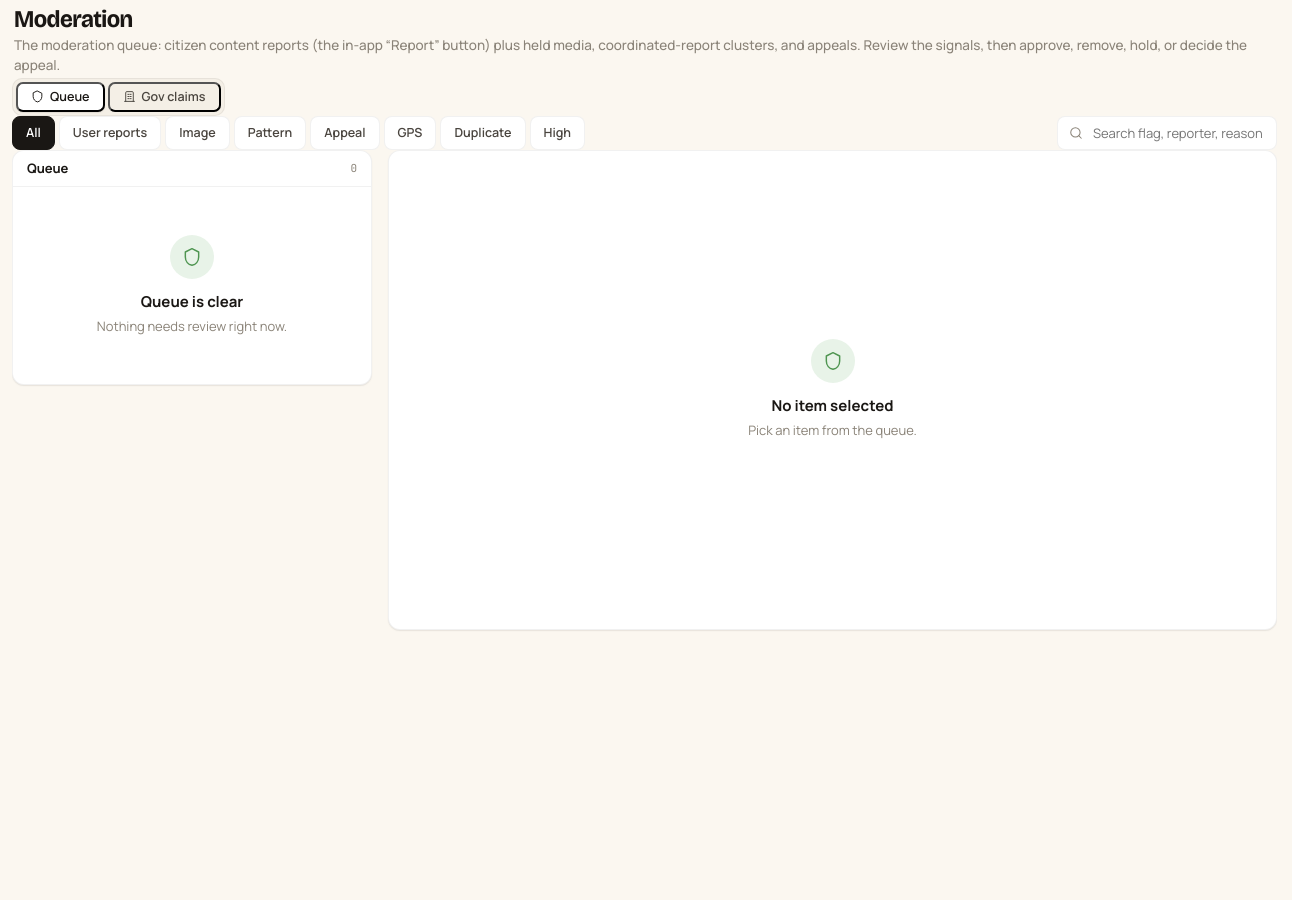
Test: ModerationPage gov claims › opens the clicked claim, which shows a decided claim as locked
Click the radio button labelled "Gov claims". click: point(164, 96)
box: [108, 82, 220, 112]
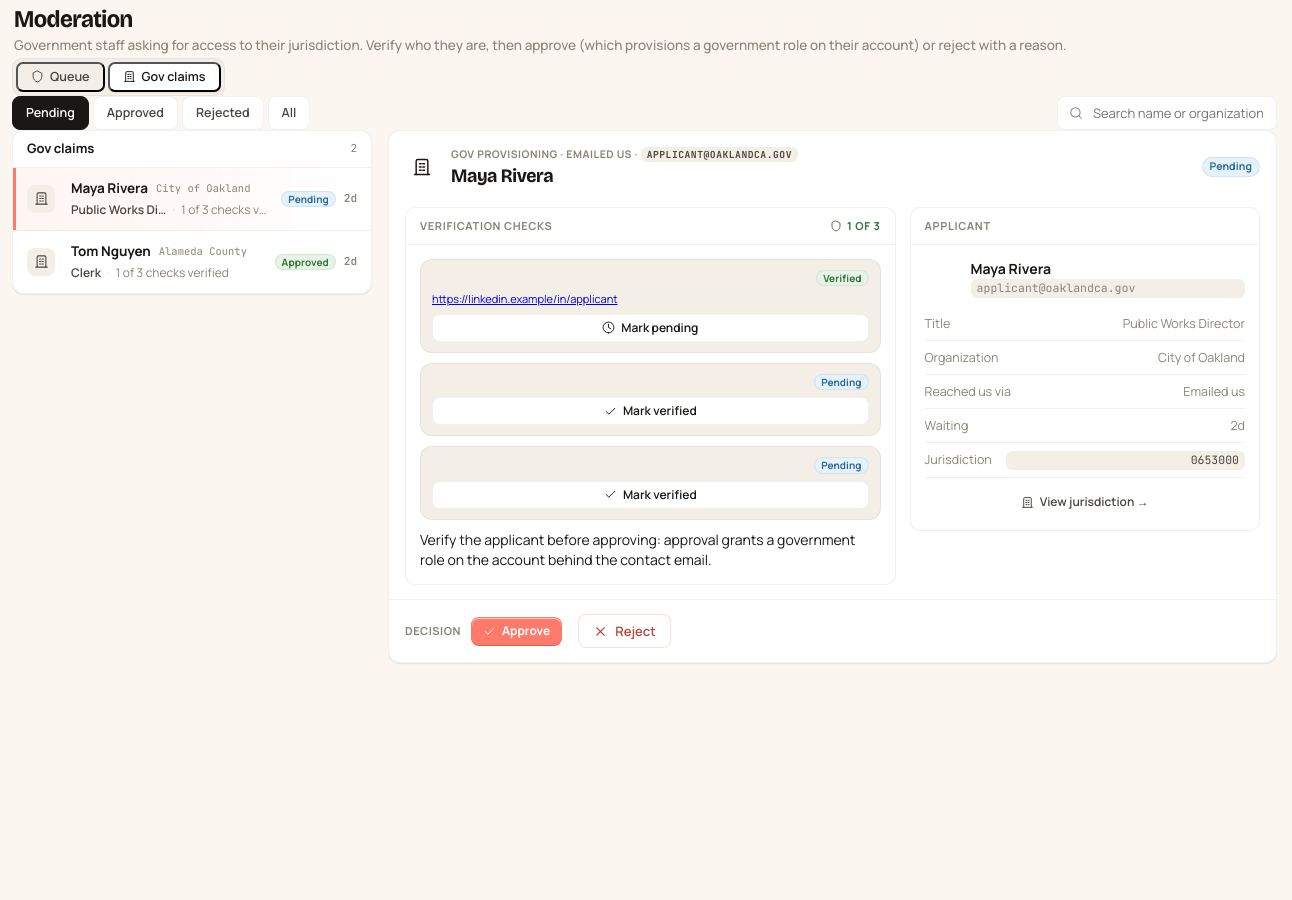
Expected: the heading "Maya Rivera" is shown, [451, 164, 553, 187]
Click the text "Tom Nguyen". click: point(111, 252)
box: [71, 242, 151, 261]
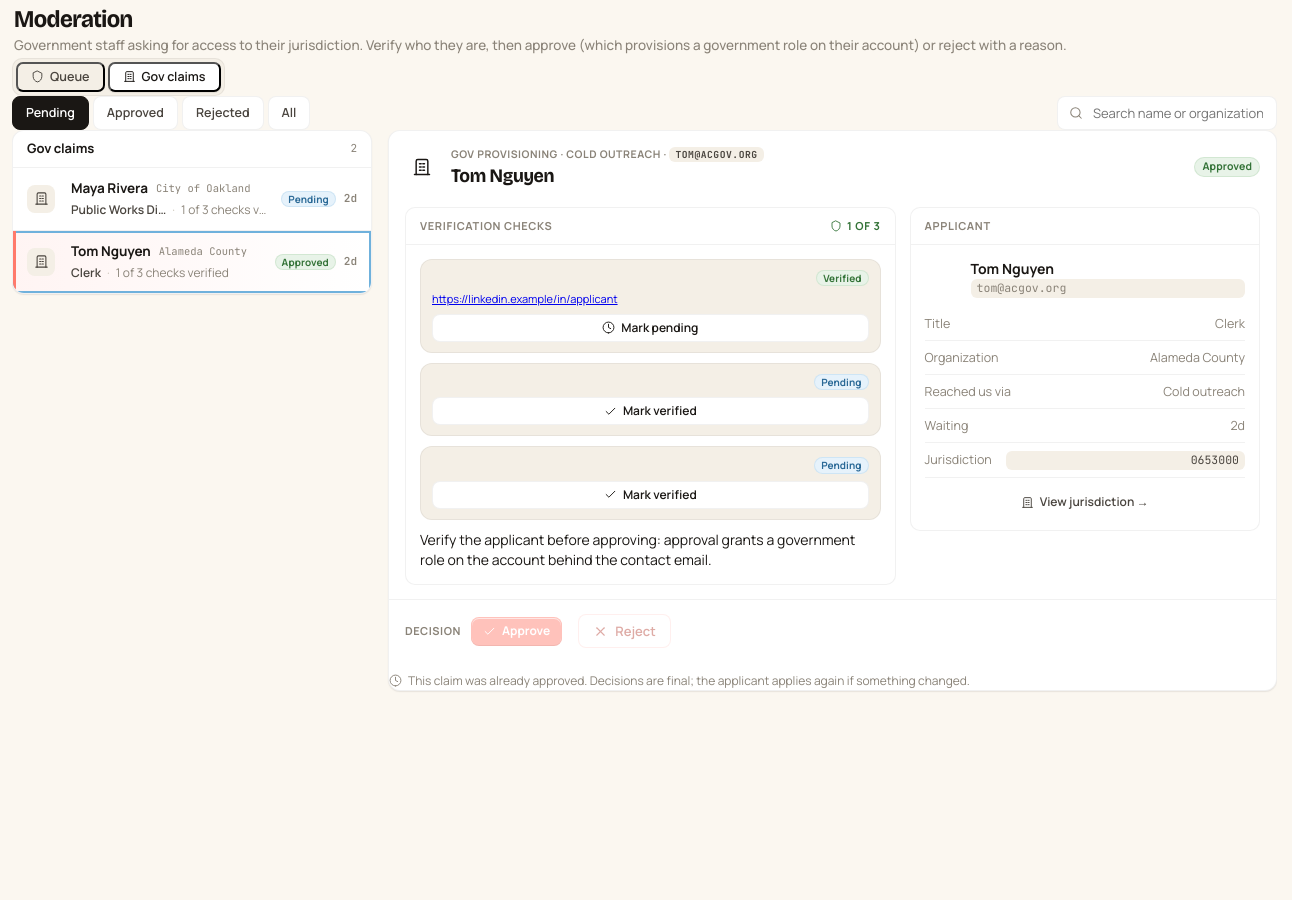
Expected: the heading "Tom Nguyen" is shown, [451, 164, 554, 187]
Expected: the text "Gov provisioning · Cold outreach · tom@acgov.org" is shown, [451, 147, 764, 162]
Expected: the button "Approve" is disabled, [471, 617, 562, 645]
